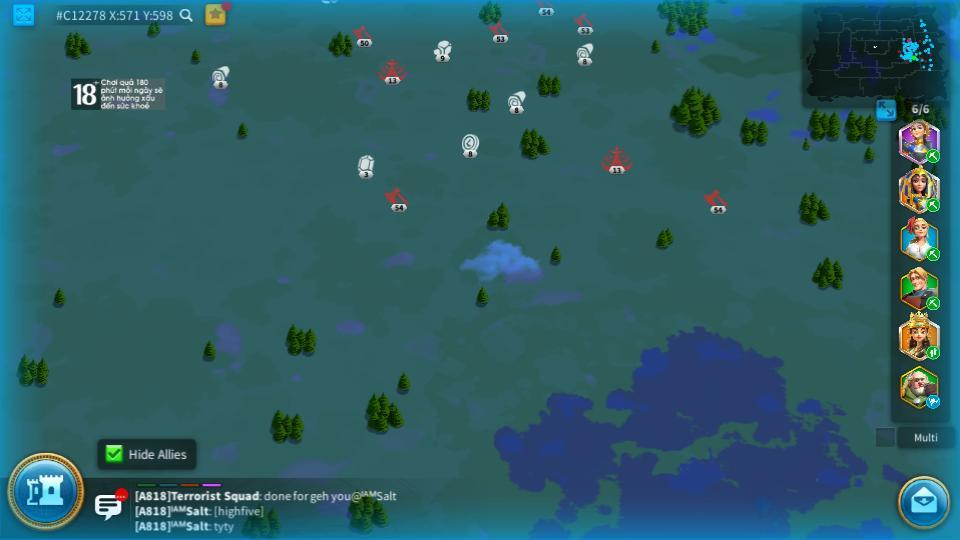gem-z-out: (356, 154, 375, 177)
march_farming: (924, 197, 939, 212), (924, 248, 939, 260)
march_idle: (925, 396, 942, 408)
march_marching: (925, 345, 941, 359)
